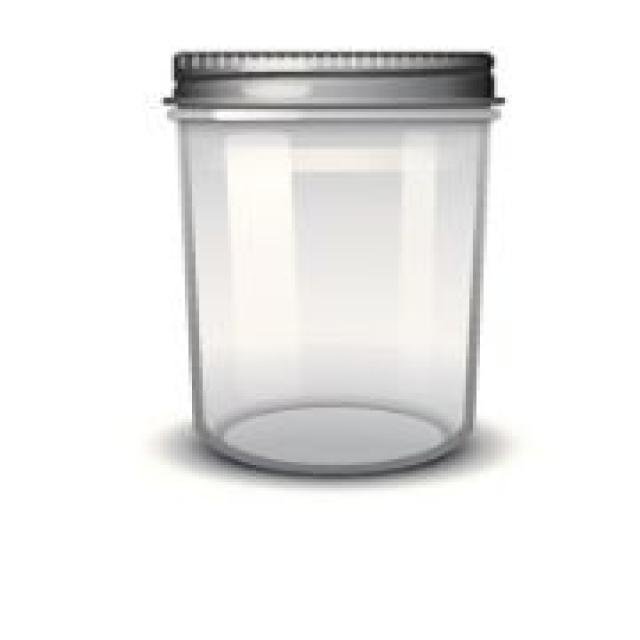electronic: (160, 49, 506, 485)
